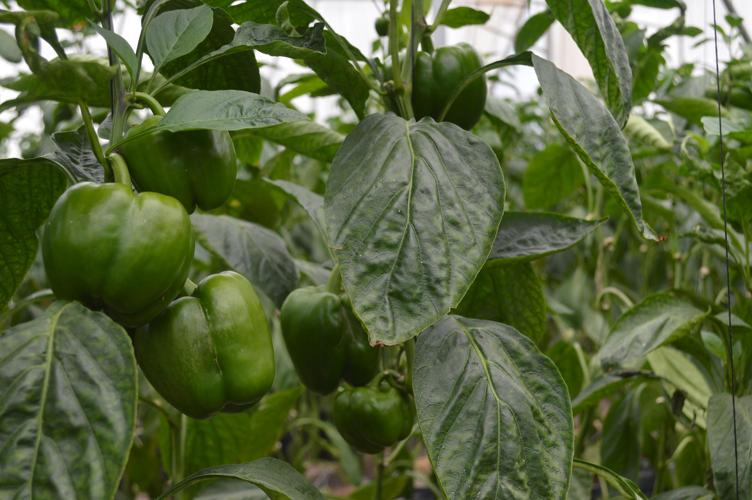BellPepper: (130, 267, 276, 426), (41, 183, 196, 330), (102, 117, 237, 224), (374, 34, 494, 143), (278, 289, 384, 387), (320, 380, 428, 462)
